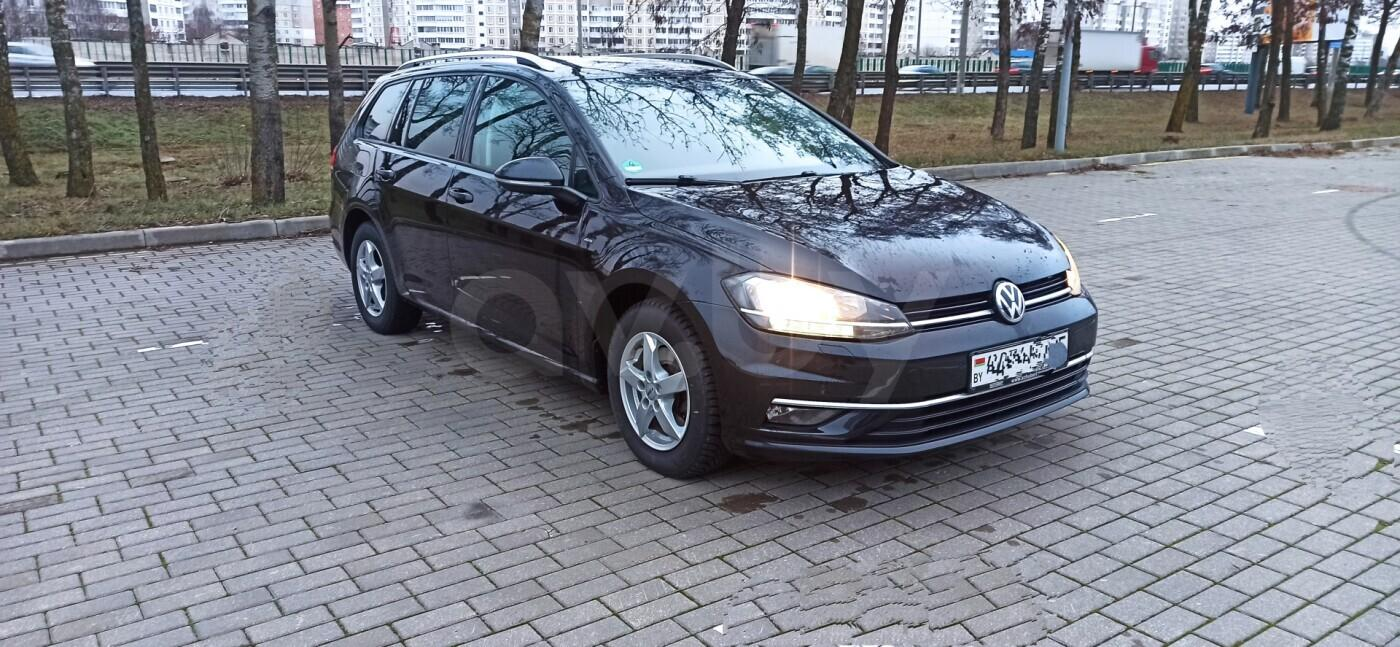Golf_2017-2021: (327, 52, 1091, 485)
